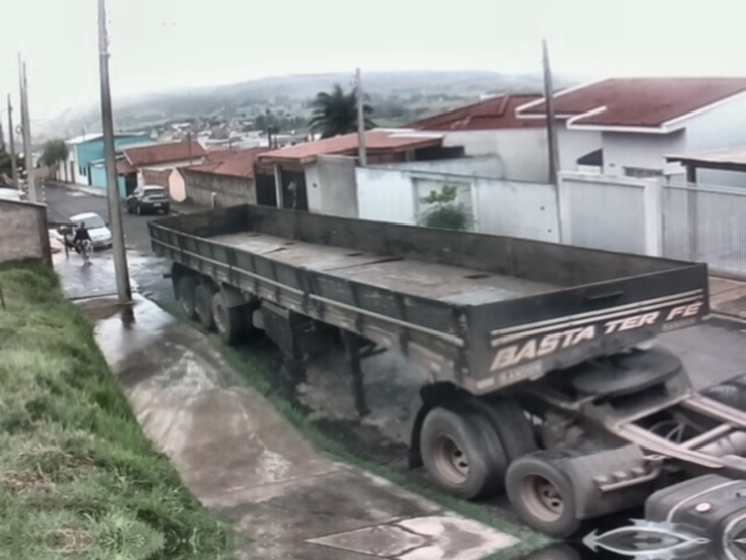person: (71, 221, 96, 265)
